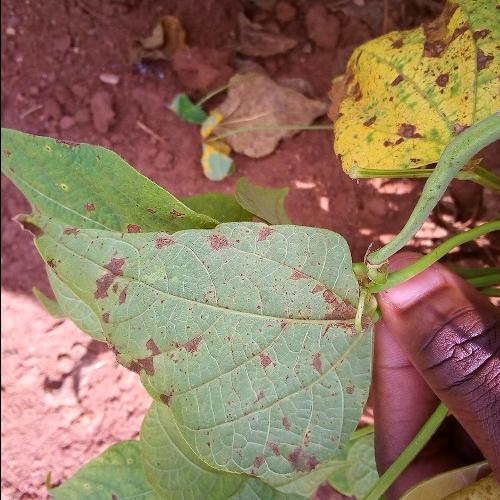hawar: (247, 266, 364, 381), (334, 27, 456, 112), (106, 328, 208, 397), (241, 422, 323, 477), (152, 222, 290, 254), (76, 255, 140, 319), (374, 113, 423, 158)
mozaik: (323, 23, 480, 187)
